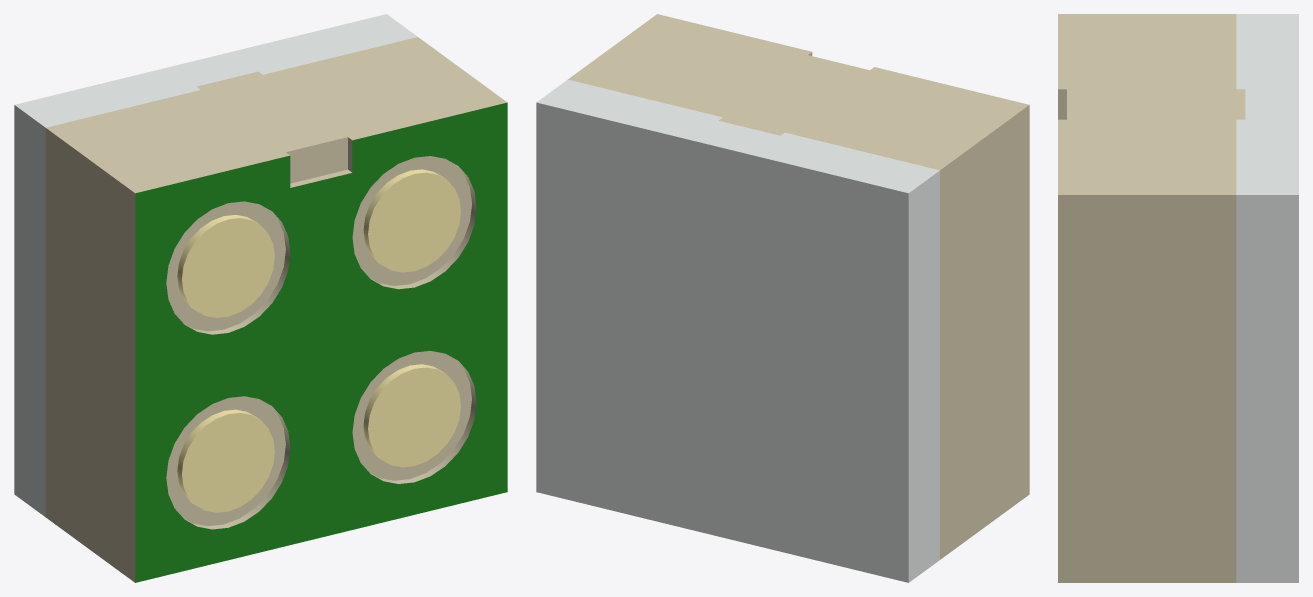
File: sipm.glb
3 views of the same model, side by side, from view 1: azimuth 30°, elevation 25°; view 2: azimuth 150°, elevation 25°; view 3: azimuth 270°, elevation 25° (orthographic).
Visible parts, largest first — view 1: =>[0:1:1:3]; view 2: =>[0:1:1:3]; view 3: =>[0:1:1:3].
Part boxes in pixels (bbox=[...]): =>[0:1:1:3]: bbox=[14, 14, 507, 582]; =>[0:1:1:3]: bbox=[536, 14, 1029, 582]; =>[0:1:1:3]: bbox=[1058, 14, 1298, 582].
Bounding box in the file's own units: 0.0024 × 0.0024 × 0.00135.
